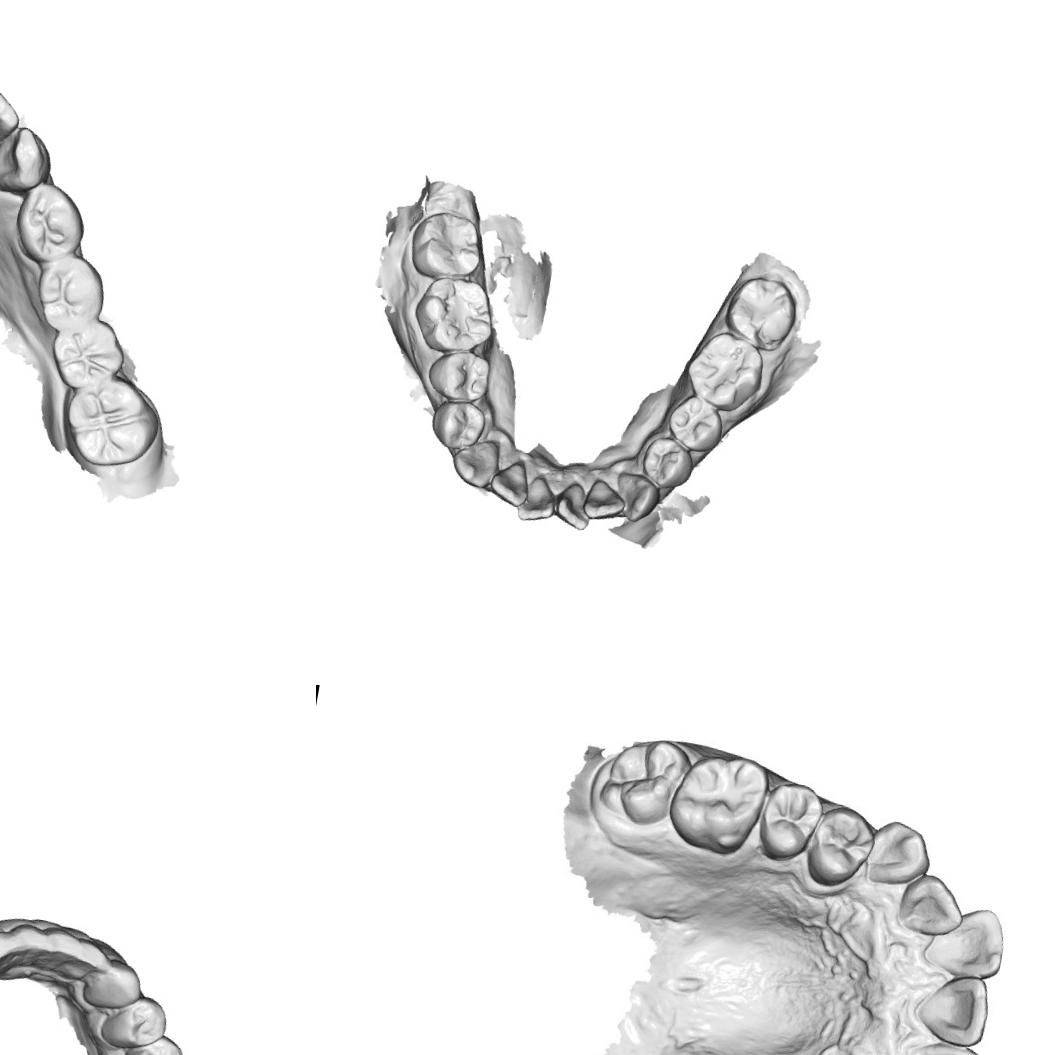canine: (860, 814, 938, 894), (0, 119, 57, 198), (446, 433, 503, 492), (607, 468, 664, 526), (88, 955, 145, 1009)
incisor: (917, 902, 1005, 978), (918, 970, 996, 1055), (896, 869, 964, 935), (485, 454, 532, 510), (579, 474, 630, 525), (550, 478, 595, 532), (515, 470, 558, 526), (72, 933, 112, 983), (907, 1032, 988, 1055), (0, 78, 22, 162), (42, 927, 80, 970), (6, 920, 48, 958), (0, 931, 14, 961)
molar: (57, 369, 158, 476), (665, 748, 773, 848), (406, 268, 502, 362), (678, 324, 770, 418), (596, 731, 689, 821), (718, 268, 803, 356), (30, 246, 111, 335), (403, 204, 490, 286), (46, 313, 128, 395)
premolar: (10, 176, 88, 266), (801, 803, 872, 900), (753, 773, 822, 870), (662, 390, 729, 457), (422, 344, 494, 406), (634, 432, 698, 494), (105, 991, 170, 1050), (424, 395, 489, 453), (123, 1029, 188, 1055)
